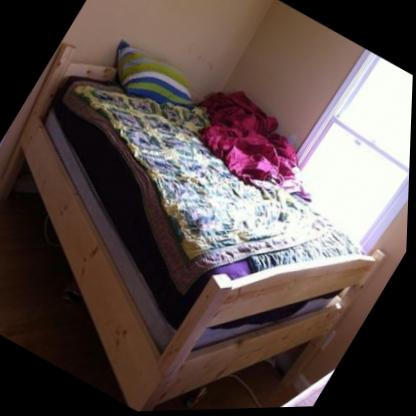Bed: (0, 1, 416, 416)
